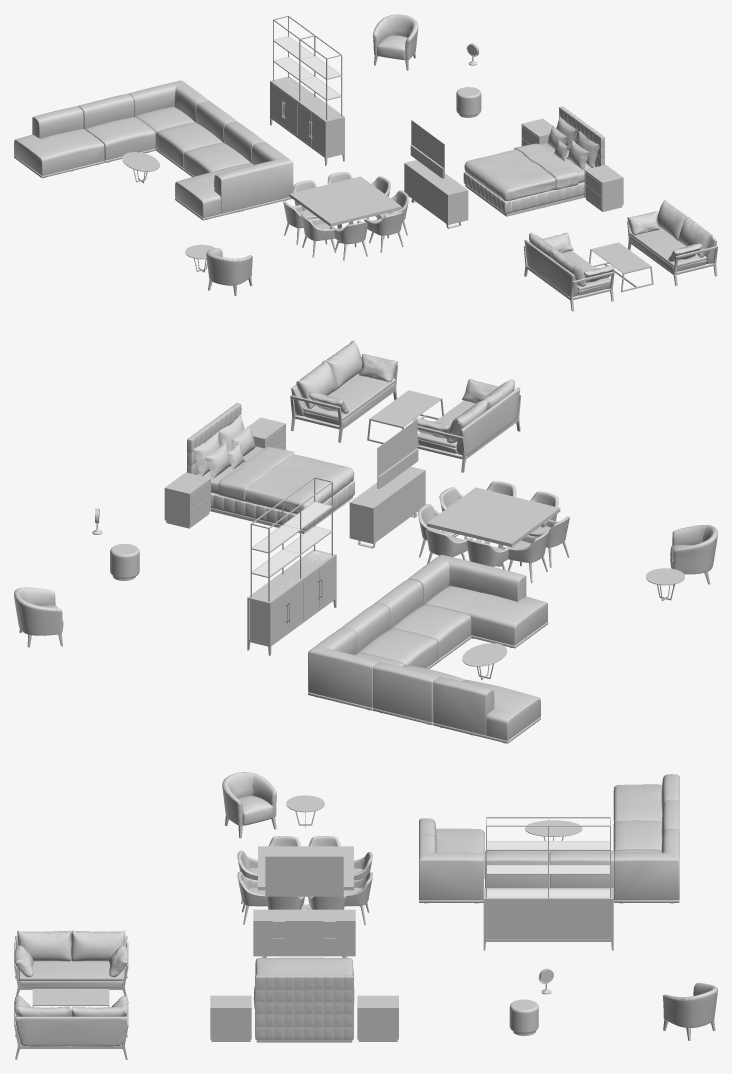
Rendered from PS01__TrueVision__MainBuildingModel__ProposedFurniture__MeshModel__.glb.
3 renders of one model, top to bottom at view 1: azimuth 30°, elevation 25°; view 2: azimuth 150°, elevation 25°; view 3: azimuth 270°, elevation 25°, orthographic. The views are drawn at different scales.
Visible parts, largest first — view 1: 28__ProposedBuilding__Furniture::Default, 28_LP13__LowPoly__Bedroom__BedsideTable__SuperKingSizeBedsid (×2), 85__TubTypeChair_ID31974696, Component_61_ID30298059 (×3), 28__ProposedBuilding__Furniture::MAT101__Glass__ClearDefault, 85__TubTypeChair_ID31942710, 29__ProposedBuilding__InteriorDecor::Default, 09__I__Exterior_Sofa_01__I__Back_Cushion_01_ID30148194, 09__I__Exterior_Sofa_01__I__Sofa_Cushion_ID30148195, da45c951_9ee2_41ac_8715_feabe8df72db_ID31942679; view 2: 28__ProposedBuilding__Furniture::Default, 28_LP13__LowPoly__Bedroom__BedsideTable__SuperKingSizeBedsid (×2), 28__ProposedBuilding__Furniture::MAT101__Glass__ClearDefault, 85__TubTypeChair_ID31974696, 85__TubTypeChair_ID31942710, 94_01_--_Interior-Furniture_-_Dining_Chair_Fabric_Texture_-_ (×2), Component_61_ID30298059 (×2), 29__ProposedBuilding__InteriorDecor::Default, 09__I__Exterior_Sofa_01__I__Back_Cushion_01_ID30148194, da45c951_9ee2_41ac_8715_feabe8df72db_ID31942679; view 3: 28__ProposedBuilding__Furniture::Default, 28_LP13__LowPoly__Bedroom__BedsideTable__SuperKingSizeBedsid (×2), 28__ProposedBuilding__Furniture::MAT101__Glass__ClearDefault, 85__TubTypeChair_ID31942710, 09__I__Exterior_Sofa_01__I__Back_Cushion_01_ID30148194 (×2), 85__TubTypeChair_ID31974696, Component_61_ID30298059 (×3), da45c951_9ee2_41ac_8715_feabe8df72db_ID31942679, 94_01_--_Interior-Furniture_-_Dining_Chair_Fabric_Texture_-_.
Part boxes in pixels (x1,y1,x2,y2): 28__ProposedBuilding__Furniture::Default: (14, 15, 716, 311); 28_LP13__LowPoly__Bedroom__BedsideTable__SuperKingSizeBedsid (×2): (521, 118, 623, 211); 85__TubTypeChair_ID31974696: (373, 14, 418, 70); Component_61_ID30298059 (×3): (301, 211, 403, 244); 28__ProposedBuilding__Furniture::MAT101__Glass__ClearDefault: (274, 37, 340, 108); 85__TubTypeChair_ID31942710: (206, 247, 252, 295); 29__ProposedBuilding__InteriorDecor::Default: (547, 125, 589, 170); 09__I__Exterior_Sofa_01__I__Back_Cushion_01_ID30148194: (657, 200, 689, 240); 09__I__Exterior_Sofa_01__I__Sofa_Cushion_ID30148195: (627, 211, 659, 235); da45c951_9ee2_41ac_8715_feabe8df72db_ID31942679: (373, 14, 417, 59); 28__ProposedBuilding__Furniture::Default: (92, 340, 684, 743); 28_LP13__LowPoly__Bedroom__BedsideTable__SuperKingSizeBedsid (×2): (164, 417, 285, 528); 28__ProposedBuilding__Furniture::MAT101__Glass__ClearDefault: (252, 502, 331, 599); 85__TubTypeChair_ID31974696: (14, 587, 63, 647); 85__TubTypeChair_ID31942710: (670, 525, 717, 585); 94_01_--_Interior-Furniture_-_Dining_Chair_Fabric_Texture_-_ (×2): (425, 528, 512, 569); Component_61_ID30298059 (×2): (503, 516, 569, 562); 29__ProposedBuilding__InteriorDecor::Default: (205, 425, 255, 479); 09__I__Exterior_Sofa_01__I__Back_Cushion_01_ID30148194: (296, 360, 337, 408); da45c951_9ee2_41ac_8715_feabe8df72db_ID31942679: (670, 525, 717, 585); 28__ProposedBuilding__Furniture::Default: (14, 774, 679, 1059); 28_LP13__LowPoly__Bedroom__BedsideTable__SuperKingSizeBedsid (×2): (210, 995, 398, 1041); 28__ProposedBuilding__Furniture::MAT101__Glass__ClearDefault: (487, 841, 609, 897); 85__TubTypeChair_ID31942710: (222, 772, 276, 838); 09__I__Exterior_Sofa_01__I__Back_Cushion_01_ID30148194 (×2): (17, 930, 125, 1016); 85__TubTypeChair_ID31974696: (662, 983, 717, 1040); Component_61_ID30298059 (×3): (237, 871, 346, 909); da45c951_9ee2_41ac_8715_feabe8df72db_ID31942679: (222, 772, 276, 837); 94_01_--_Interior-Furniture_-_Dining_Chair_Fabric_Texture_-_: (344, 872, 372, 925).
Bounding box in the file's own units: 8.83 × 2.33 × 11.
Materials: 3 (1 with a texture image).
